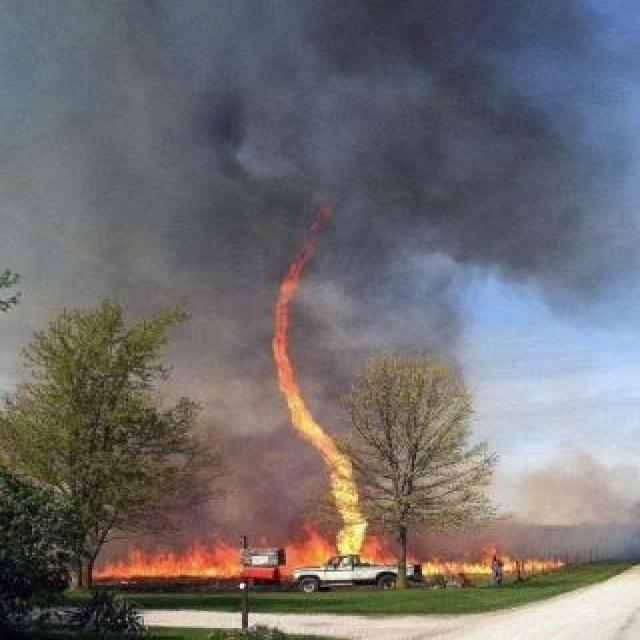fire: (257, 178, 399, 577), (94, 519, 565, 592)
smoke: (18, 4, 602, 360)
